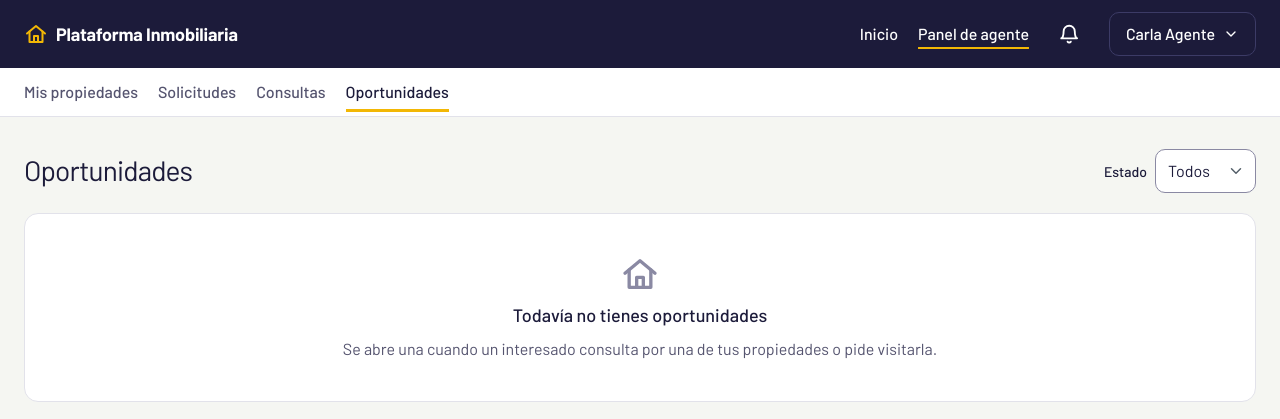
Scenario: AgentLeadsPage › filters by status and explains the empty result
Expected: the text "Todavía no tienes oportunidades" is shown, left=513, top=302, right=767, bottom=329
Select "Cerrada" in the dropdown labelled "Estado" at (1206, 171), box left=1155, top=149, right=1256, bottom=193
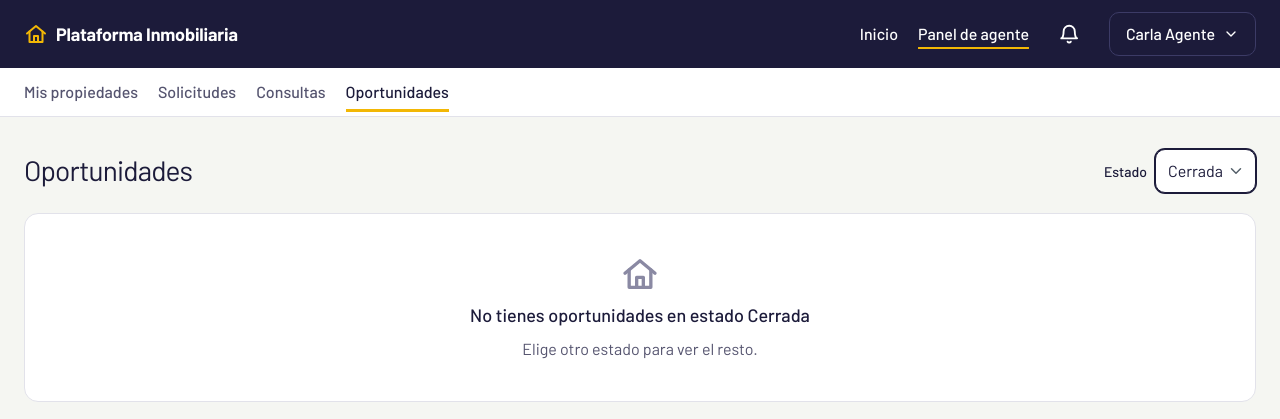
Expected: the text "No tienes oportunidades en estado Cerrada" is shown, left=470, top=302, right=810, bottom=329
